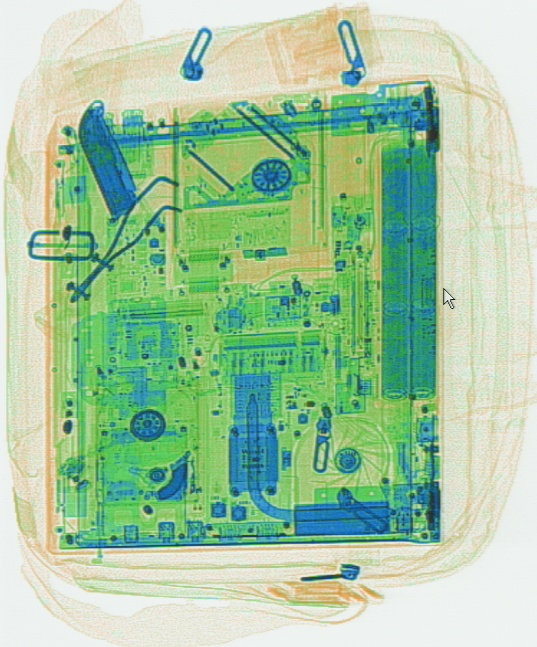knife: (74, 96, 139, 219)
slingshot: (64, 173, 182, 304)
